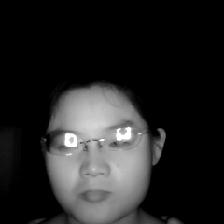normal: (25, 73, 169, 224)
